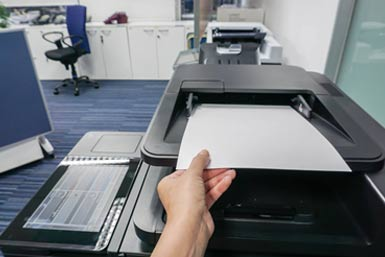paper: (157, 94, 364, 202)
